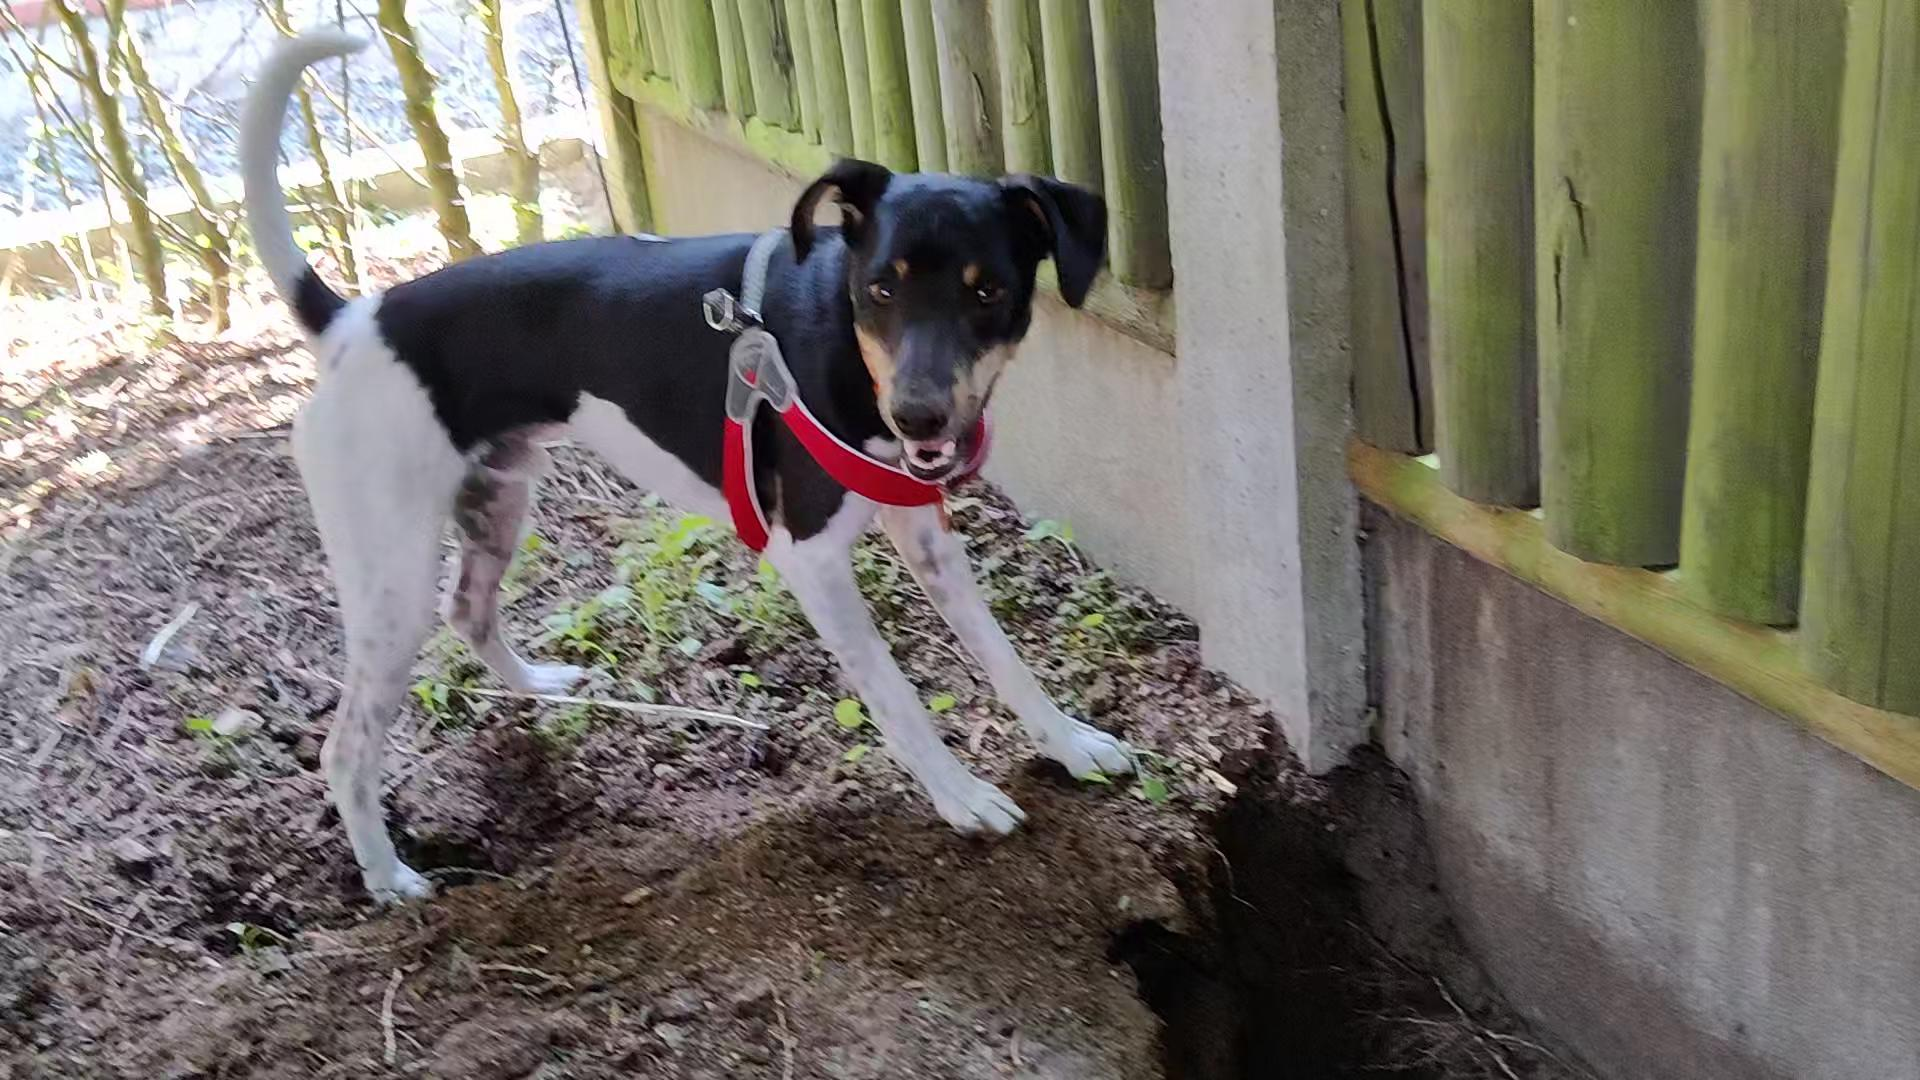Dog: (204, 11, 1176, 924)
